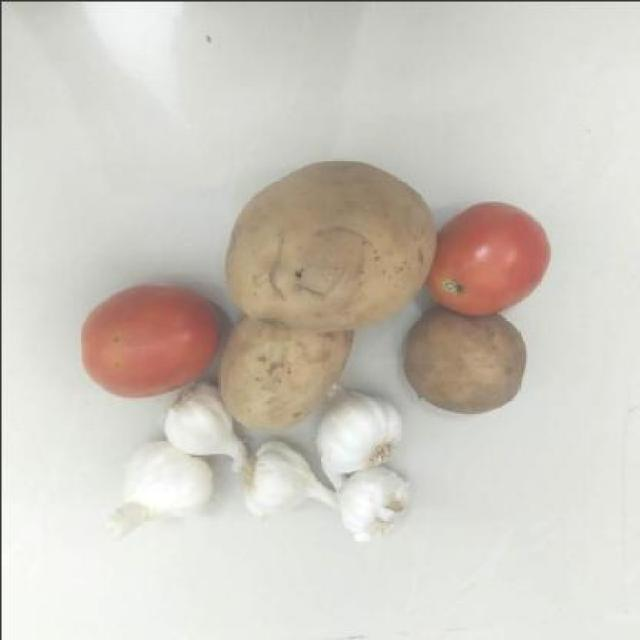Garlic: (80, 438, 217, 517), (235, 442, 323, 512), (322, 392, 398, 471), (335, 464, 408, 542), (158, 386, 234, 459)
Potato: (222, 152, 440, 325), (217, 312, 348, 437), (397, 309, 543, 417)
Tomato: (60, 285, 229, 403), (440, 198, 551, 316)
